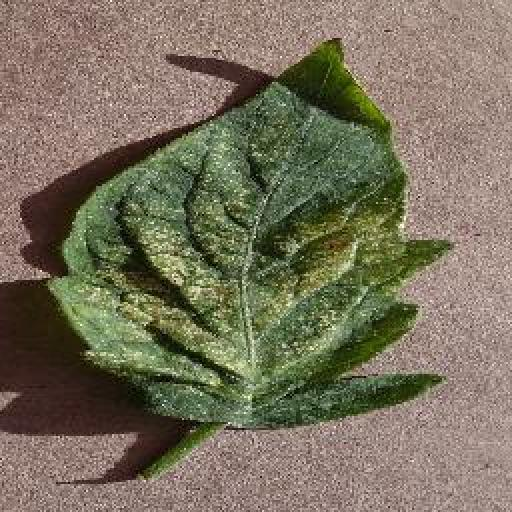disease_tomato: (51, 36, 456, 429)
